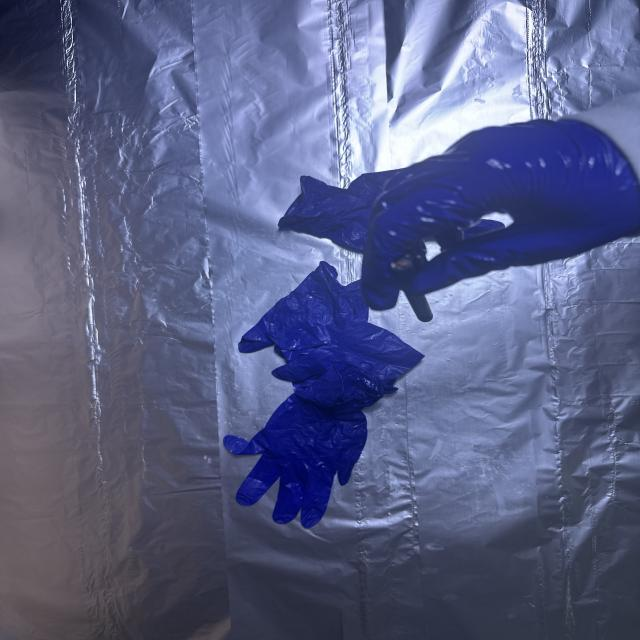gloves_contaminated: (361, 119, 640, 310)
